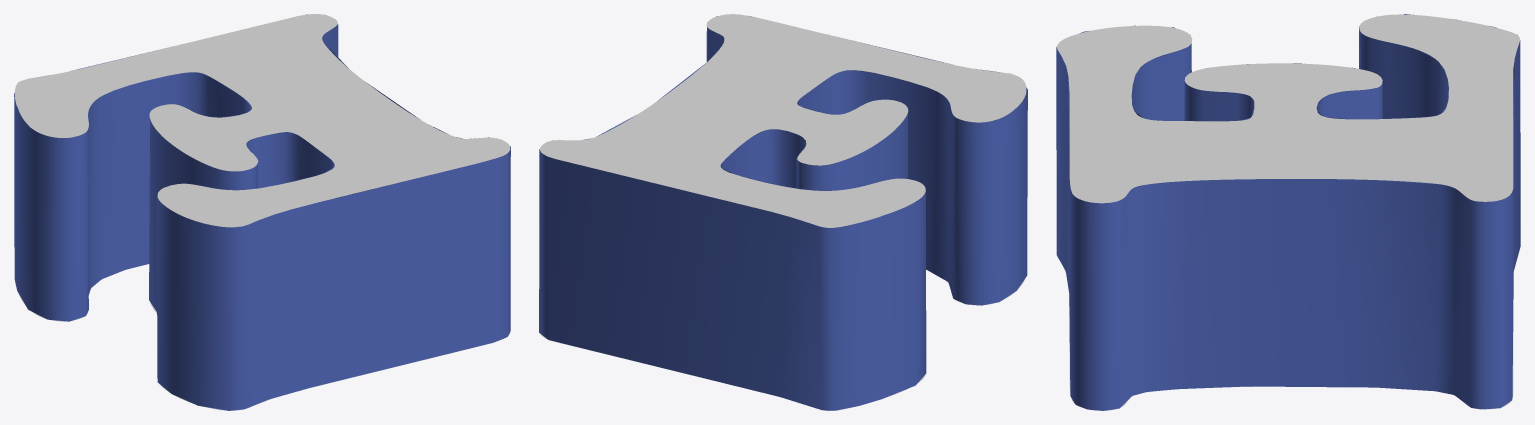
The picture shows the model from 3 angles, left to right: view 1: azimuth 30°, elevation 25°; view 2: azimuth 150°, elevation 25°; view 3: azimuth 270°, elevation 25°; orthographic projection. The views are drawn at different scales.
Visible parts, largest first — view 1: E; view 2: E; view 3: E.
Boxes of the visible parts, left/top/right/bottom form: E: left=14, top=14, right=510, bottom=410; E: left=539, top=14, right=1027, bottom=410; E: left=1056, top=14, right=1520, bottom=410.
Size of the model in its own units: 1.44 by 0.7361 by 1.49.
